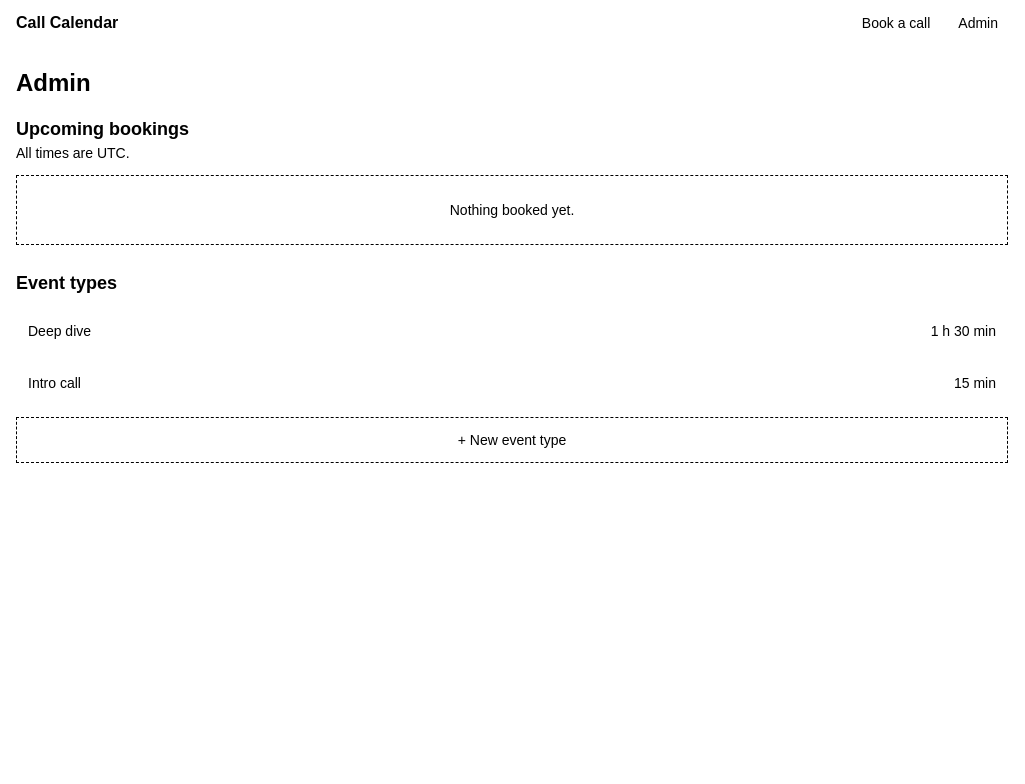
Test: admin: editing an event type › collapses the card and refetches the list when the event type was deleted elsewhere
Click the button "Intro call 15 min" at (54, 383), box [16,361,1008,405]
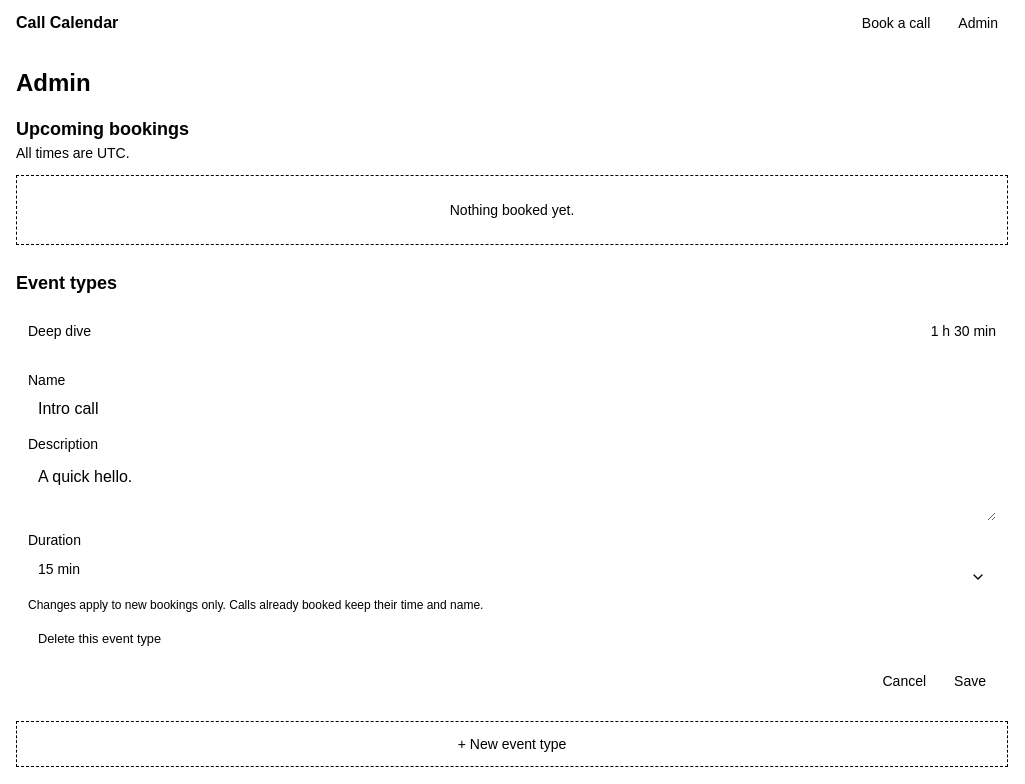
Click the button "Save" at (970, 681), box [944,665,996,697]
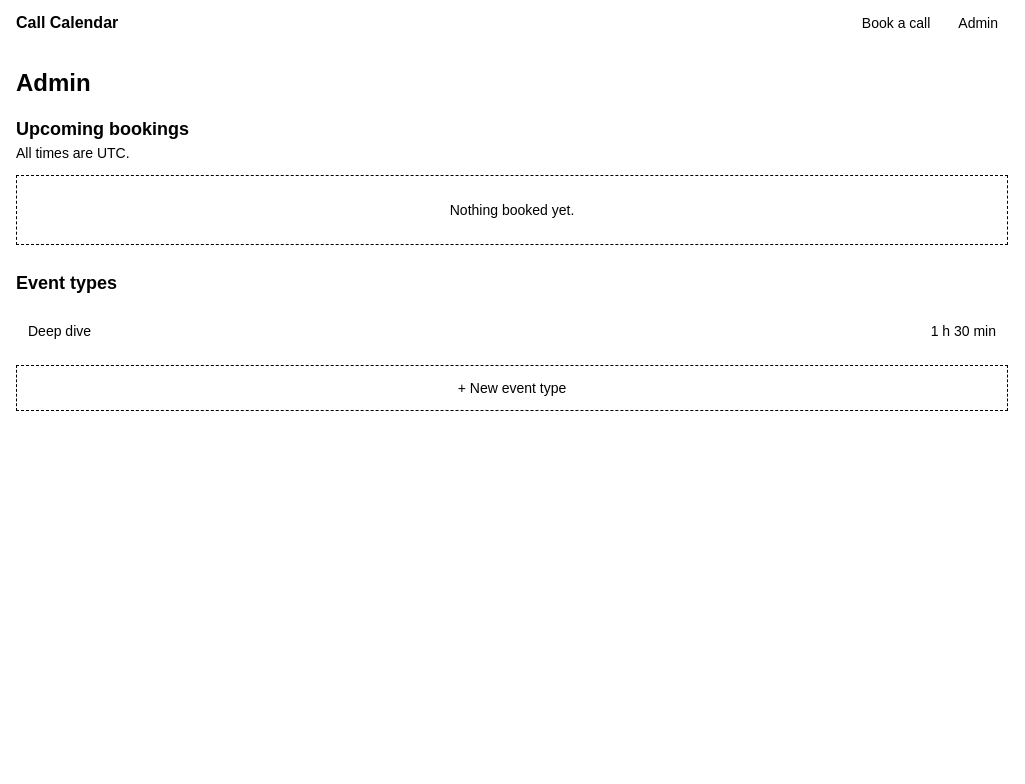
Expected: the button "Intro call" is not shown
Now the form is gone
